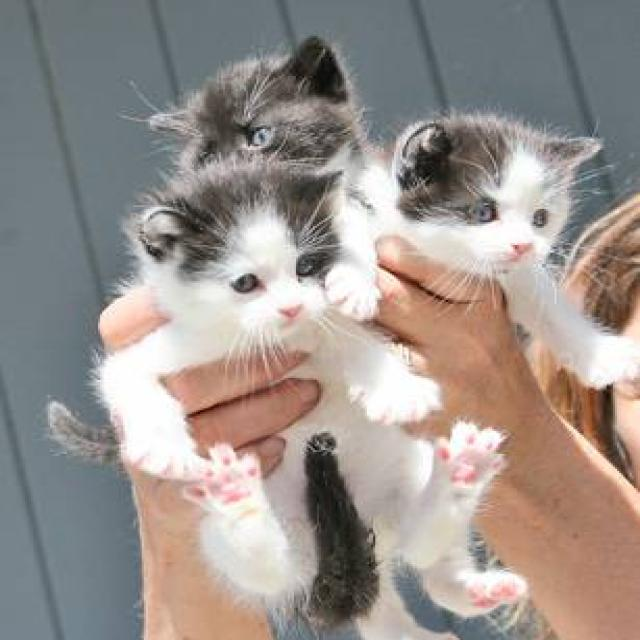cat: (88, 157, 502, 614), (353, 85, 640, 405), (124, 39, 400, 334)
